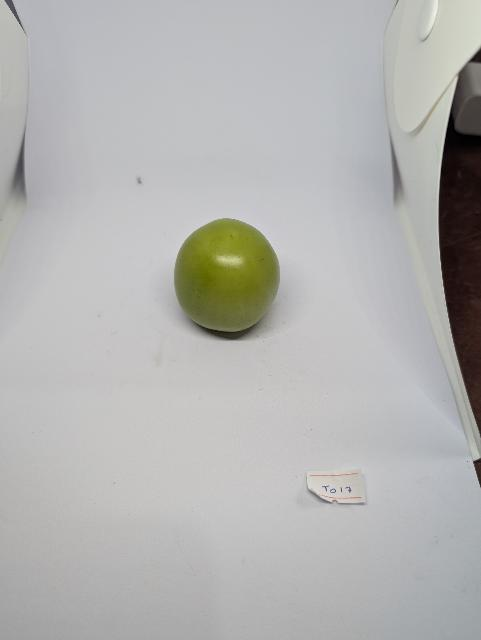green: (173, 217, 283, 334)
